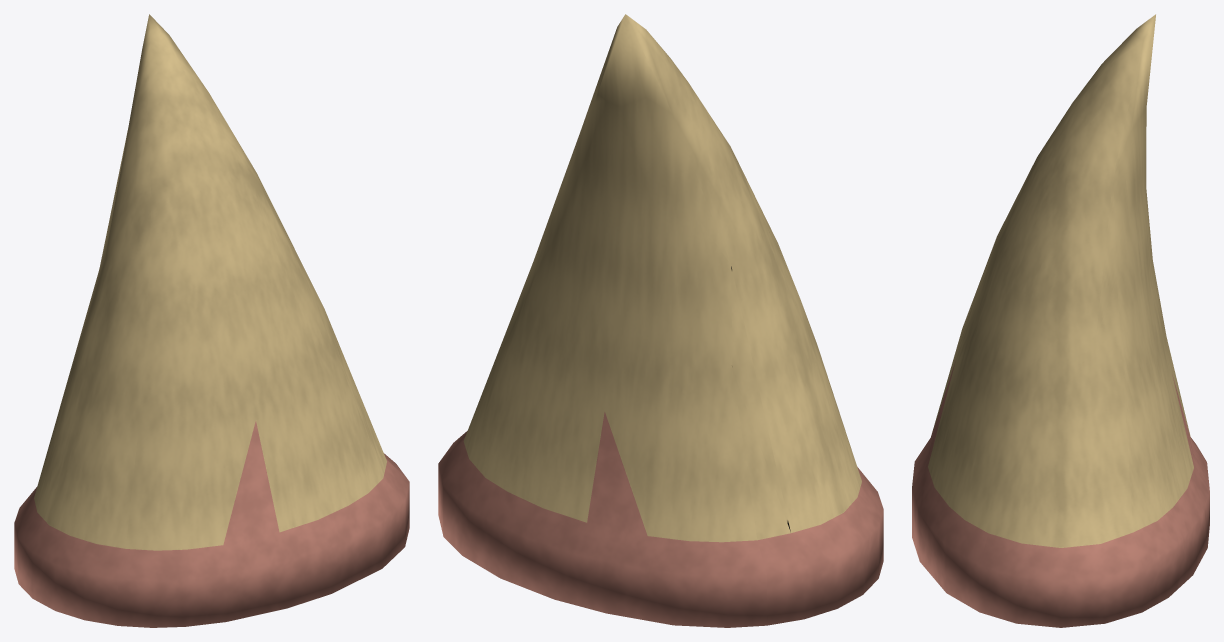
Rendered from cpart_beak.glb.
3 views of the same model, side by side, from view 1: azimuth 30°, elevation 25°; view 2: azimuth 150°, elevation 25°; view 3: azimuth 270°, elevation 25° (orthographic). The views are drawn at different scales.
Parts seen in each view (by area): view 1: Beak; view 2: Beak; view 3: Beak.
Boxes of the visible parts, <box> form: Beak: <box>14,14,409,627</box>; Beak: <box>438,14,883,627</box>; Beak: <box>912,14,1209,627</box>.
Size of the model in its own units: 0.1343 by 0.1801 by 0.0944.
Materials: 2 (2 with a texture image).
